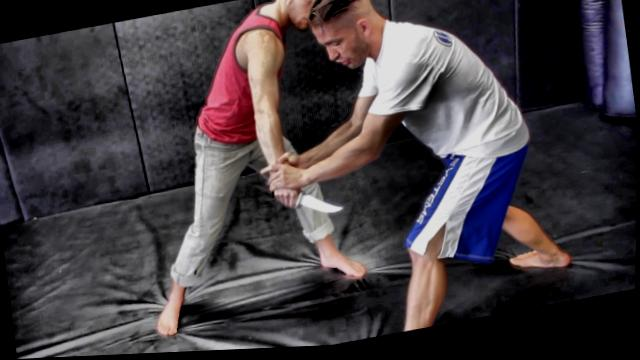knife: (269, 180, 346, 230)
